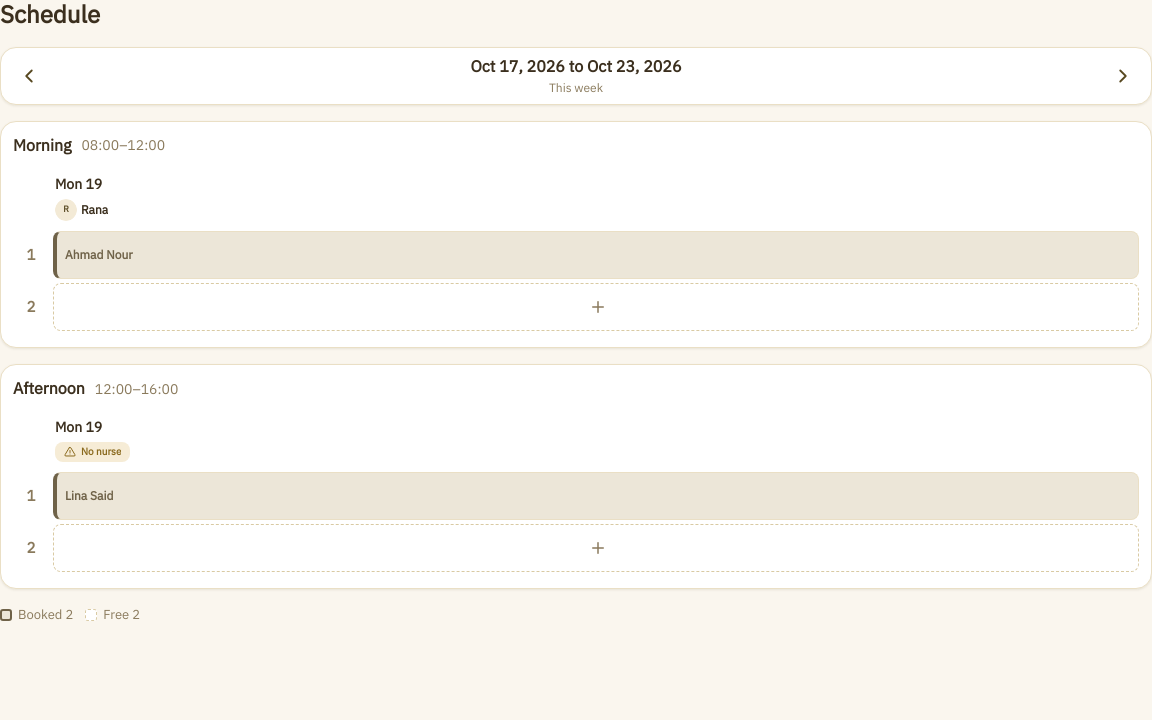
it: CalendarPage › shows nurses, No nurse for an unrostered block, booked cells, and opens BookDialog on an empty cell
The width and height of the screenshot is (1152, 720).
Expected: the link "Ahmad Nour" is shown, [53, 231, 1139, 279]
Expected: the text "Rana" is shown, [81, 202, 108, 219]
Click the button named "Book machine 2, Morning, Oct 19, 2026" at [596, 307], box [53, 283, 1139, 331]
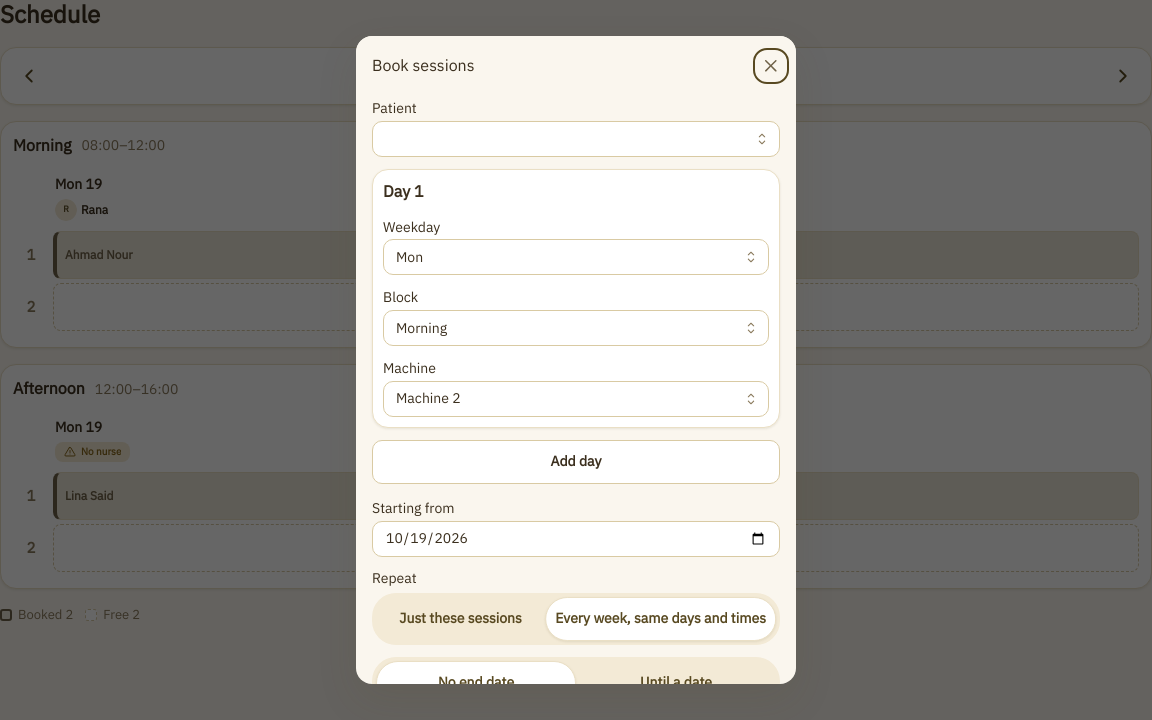
Now the field labelled "Weekday" holds "Mon", box [383, 239, 769, 275]
Now the field labelled "Block" holds "Morning", box [383, 310, 769, 346]
Now the field labelled "Machine" holds "Machine 2", box [383, 381, 769, 417]
